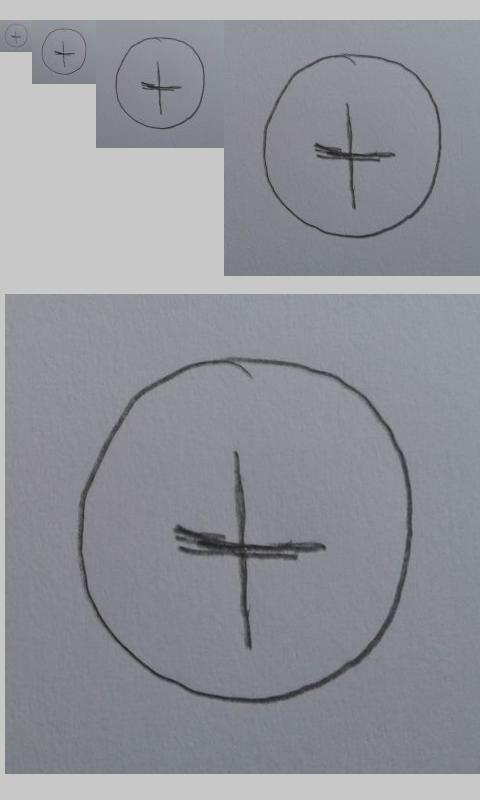button: (76, 355, 415, 702), (262, 53, 443, 239), (115, 36, 206, 130), (41, 28, 87, 76), (4, 23, 29, 48)
